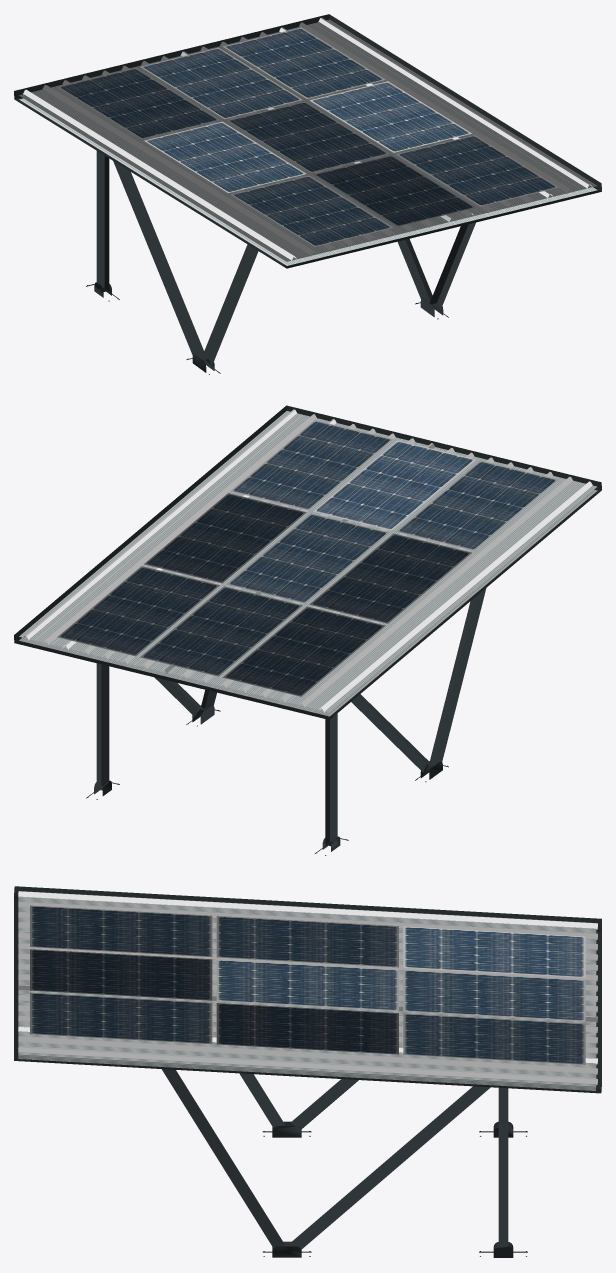
3 views of the same model, one above another, from view 1: azimuth 30°, elevation 25°; view 2: azimuth 150°, elevation 25°; view 3: azimuth 270°, elevation 25° (orthographic). The views are drawn at different scales.
Visible parts, largest first — view 1: priximbattable_net_abris_de_voiture_solaire_640011_carport_s; view 2: priximbattable_net_abris_de_voiture_solaire_640011_carport_s; view 3: priximbattable_net_abris_de_voiture_solaire_640011_carport_s.
Boxes of the visible parts, bbox=[...] form: priximbattable_net_abris_de_voiture_solaire_640011_carport_s: bbox=[14, 14, 601, 374]; priximbattable_net_abris_de_voiture_solaire_640011_carport_s: bbox=[14, 405, 601, 855]; priximbattable_net_abris_de_voiture_solaire_640011_carport_s: bbox=[14, 886, 601, 1257].
Bounding box in the file's own units: 400 × 255 × 599.
Materials: 1 (1 with a texture image).
